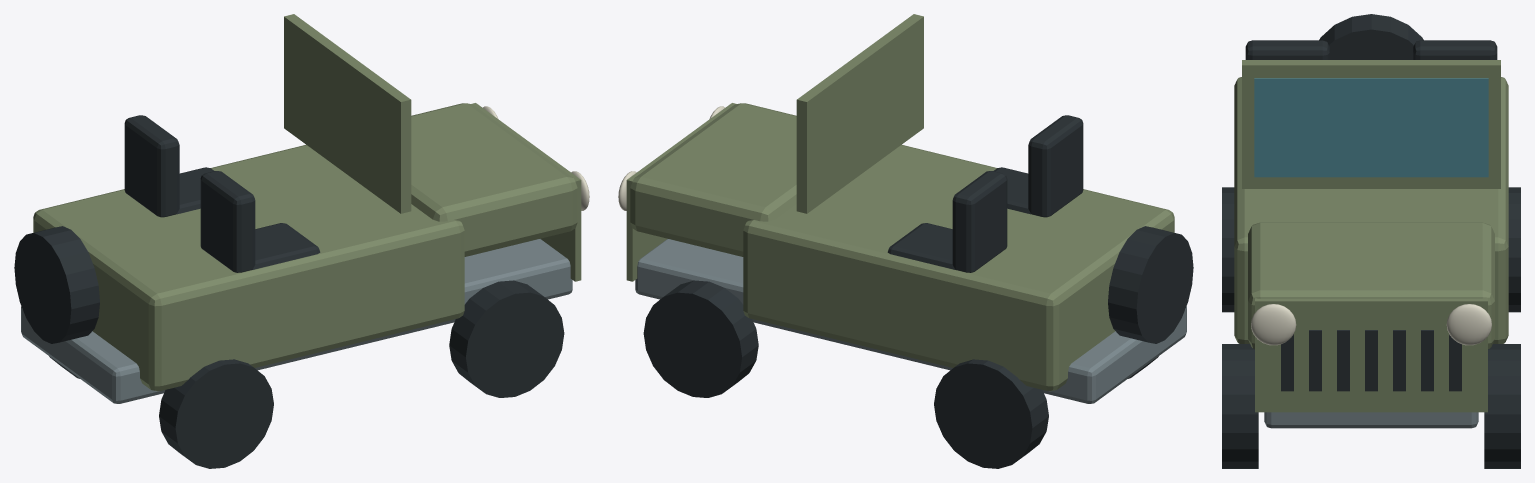
File: utility_vehicle.glb
3 renders of one model, left to right at view 1: azimuth 30°, elevation 25°; view 2: azimuth 150°, elevation 25°; view 3: azimuth 270°, elevation 25°, orthographic. The views are drawn at different scales.
Visible parts, largest first — view 1: VisibleGeometry; view 2: VisibleGeometry; view 3: VisibleGeometry.
Part boxes in pixels (x1=…): VisibleGeometry: x1=14, y1=14, x2=589, y2=468; VisibleGeometry: x1=618, y1=14, x2=1193, y2=468; VisibleGeometry: x1=1222, y1=14, x2=1520, y2=468.
Size of the model in its own units: 3.62 by 2.19 by 1.71.
